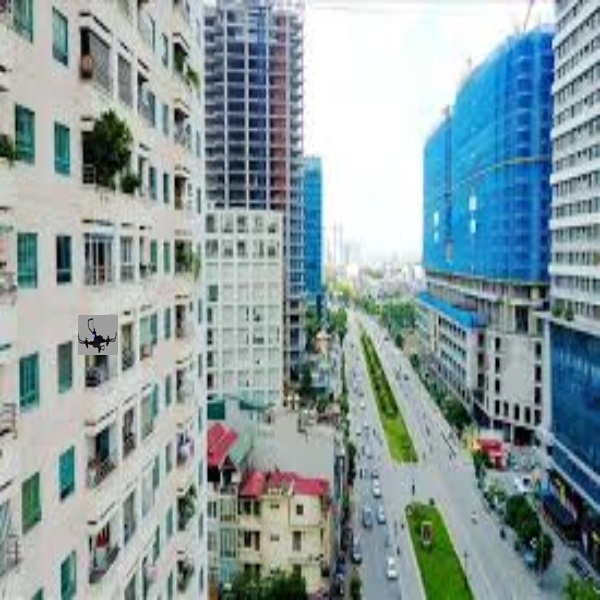drone: (76, 313, 119, 354)
